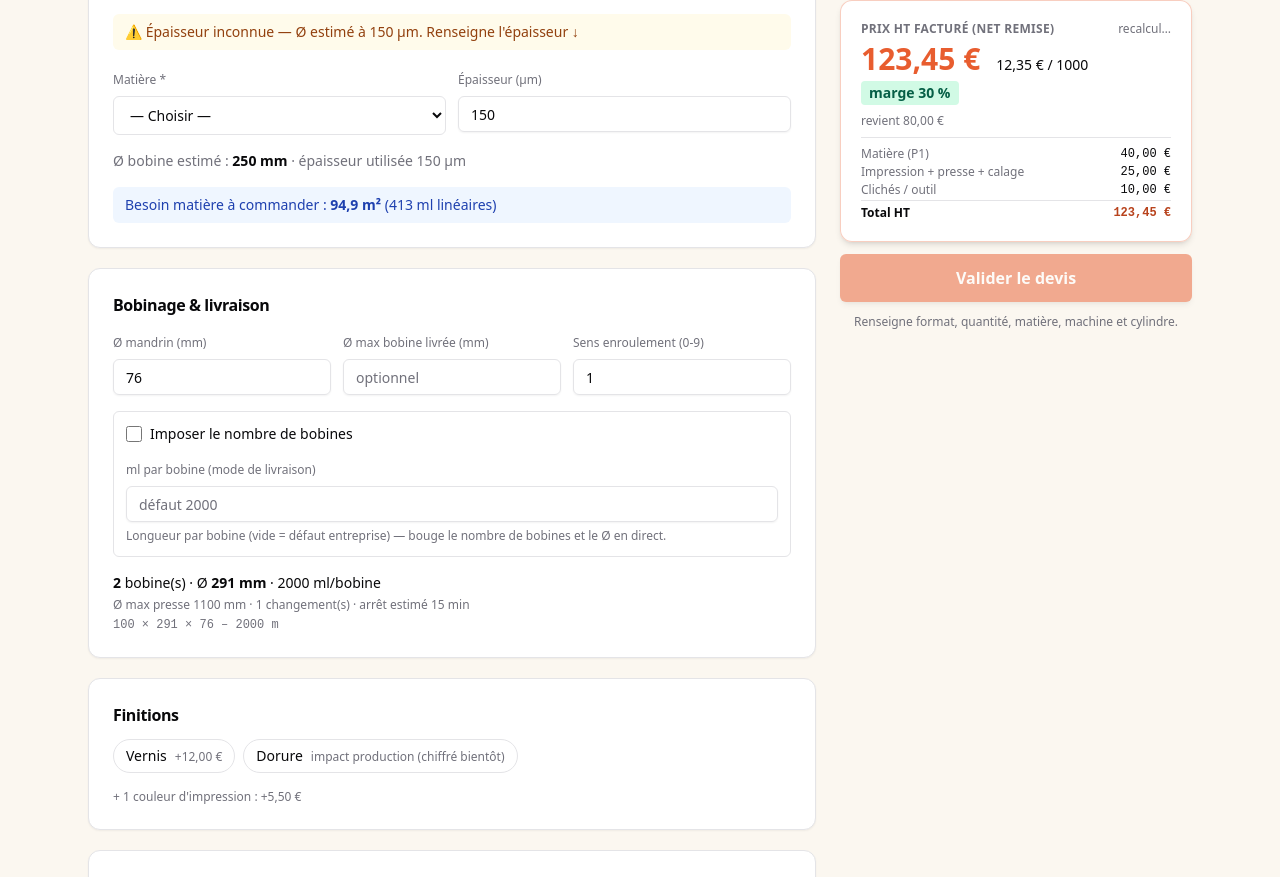
Test: DevisPageUnique — page devis réactive › Lot F2 : toggle imposé → payload exclusif + bandeau surplus (formulation back)
This screenshot has width=1280, height=877.
(page scrolled)
expect the number field with test id "b-ml-par-bobine" is shown: met, box left=126, top=486, right=778, bottom=522
// Bascule → le champ ml/bobine laisse place au champ « nb imposé ».
Click the checkbox with test id "toggle-nb-bobines-impose".
click(134, 434)  # box left=126, top=426, right=142, bottom=442
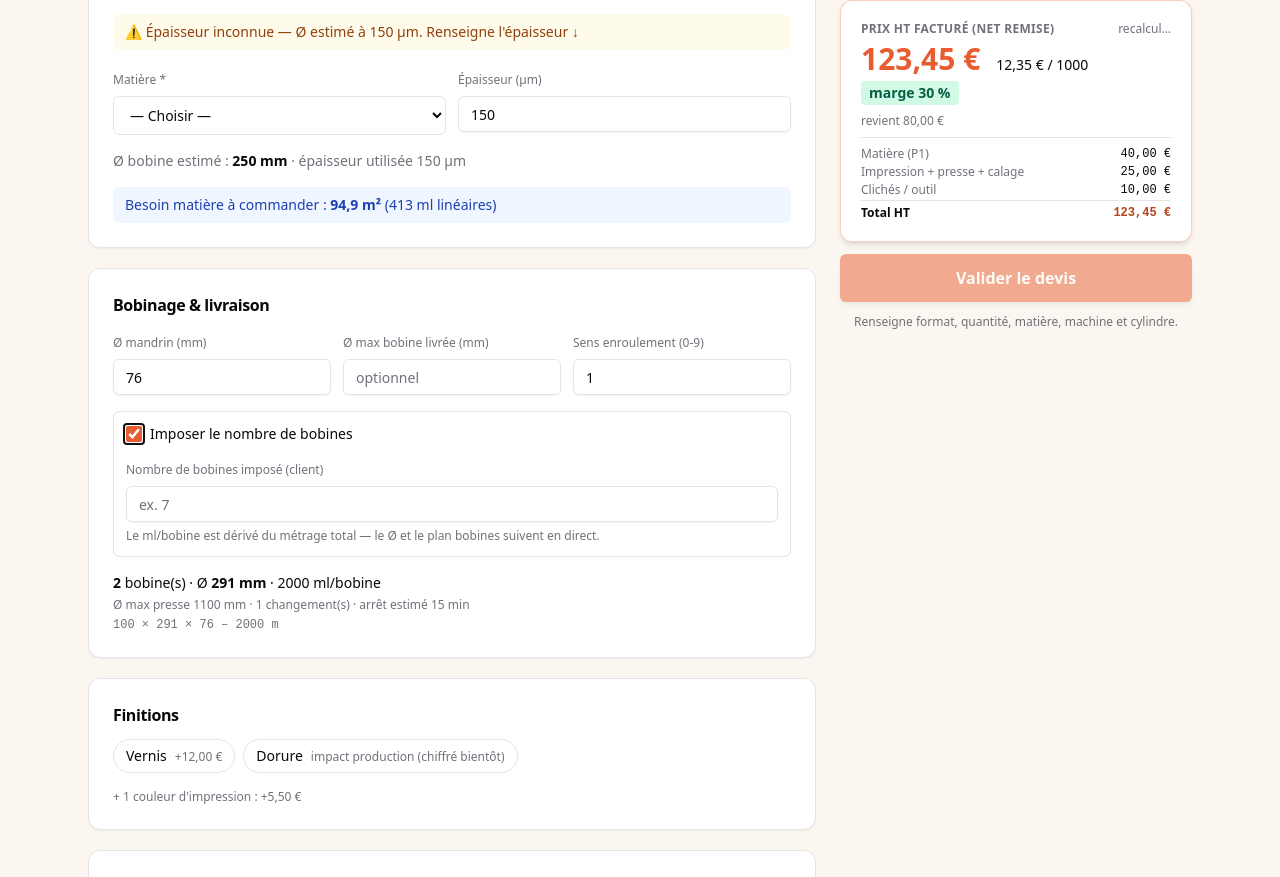
Type "7" into the number field with test id "b-nb-bobines-impose".
click(452, 504); type("7")  # box left=126, top=486, right=778, bottom=522
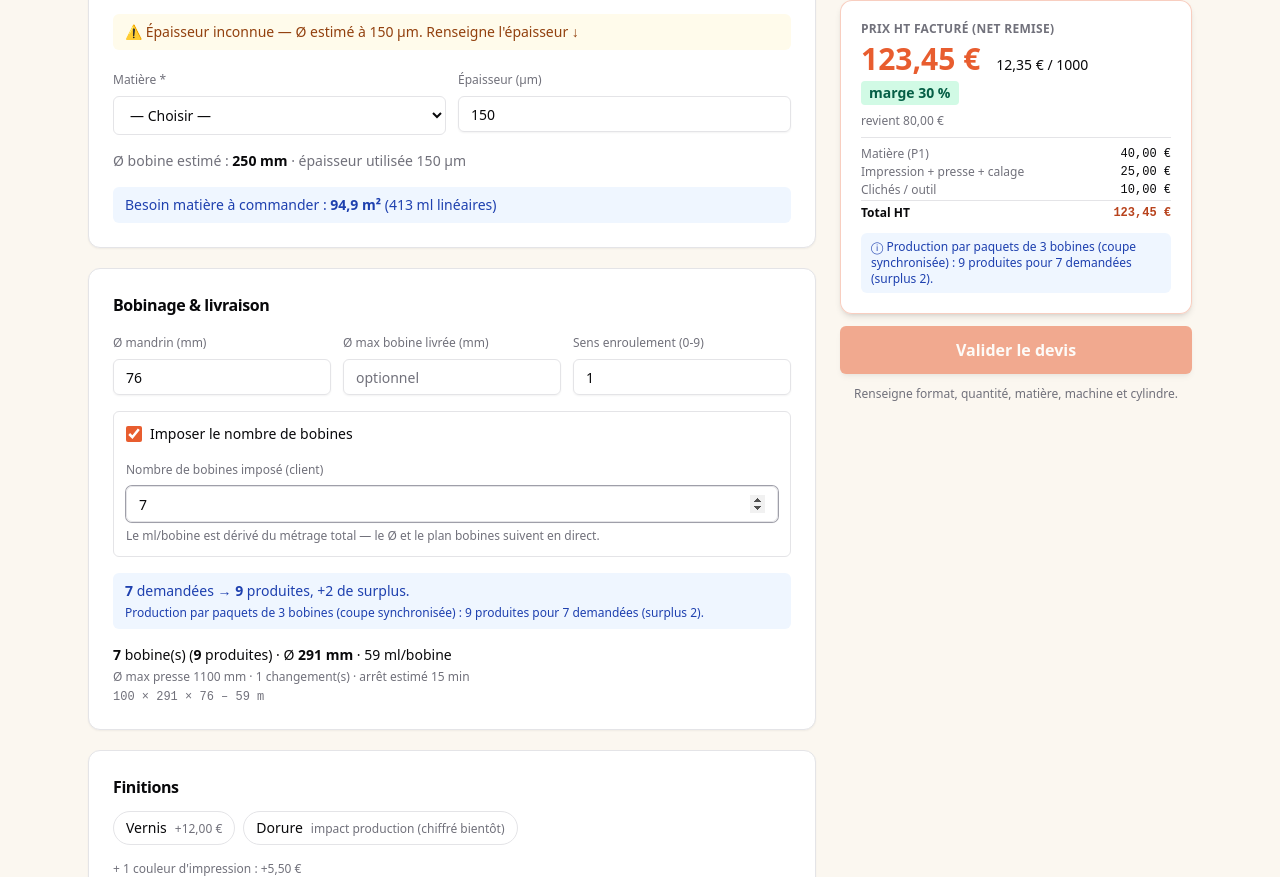
expect the element with test id "b-surplus" is shown: met, box left=113, top=573, right=791, bottom=629
expect the element with test id "b-surplus" shows "paquets de 3": met, box left=125, top=604, right=704, bottom=621
expect the element with test id "b-plan" shows "59 ml/bobine": met, box left=113, top=645, right=470, bottom=704
